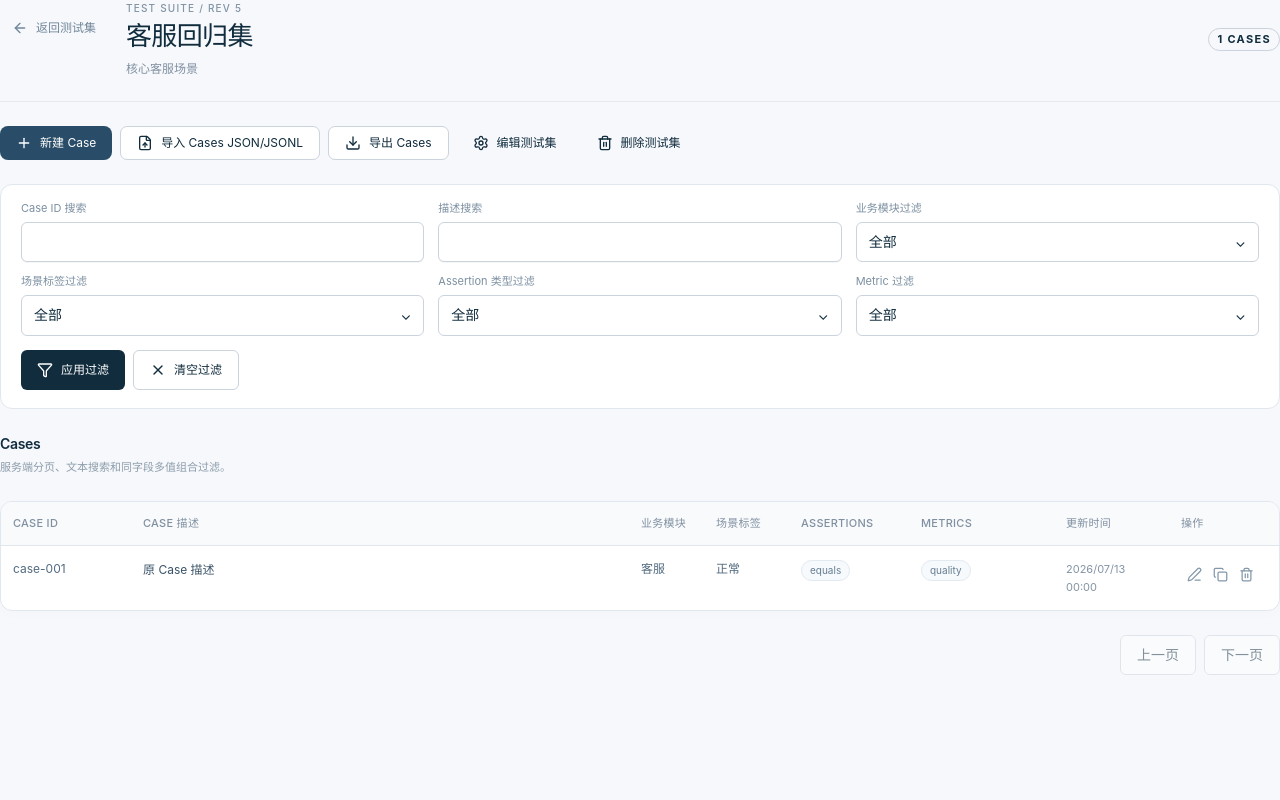
Test: 测试集详情页 Case 资源写操作 › Case 复制和删除的非 Revision 失败在当前模态框内可访问
What coordinates should you click on to do the following:
click the button named "复制 case-001"
I would click on:
 (1220, 574)
Its box is [1207, 560, 1233, 588].
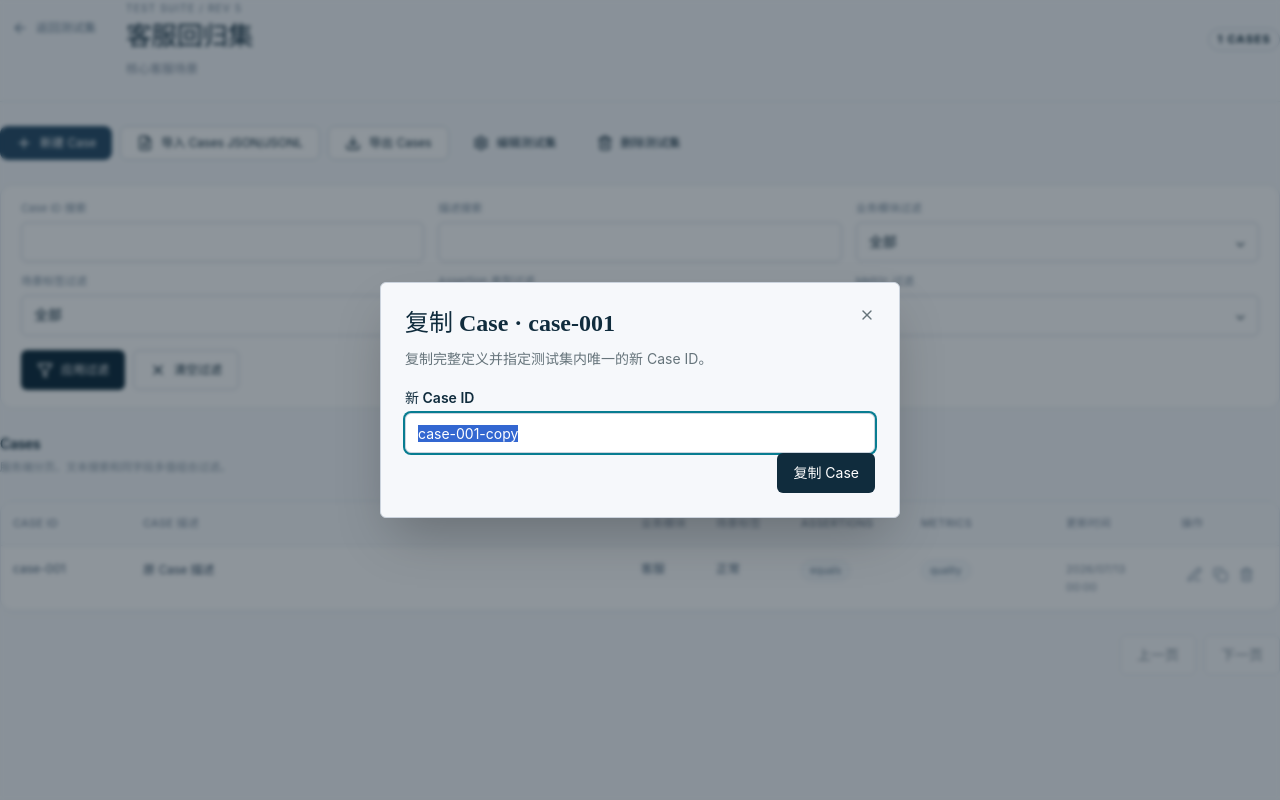
What coordinates should you click on to do the following:
click the button "复制 Case"
I would click on:
 (826, 473)
Its box is [777, 453, 875, 493].
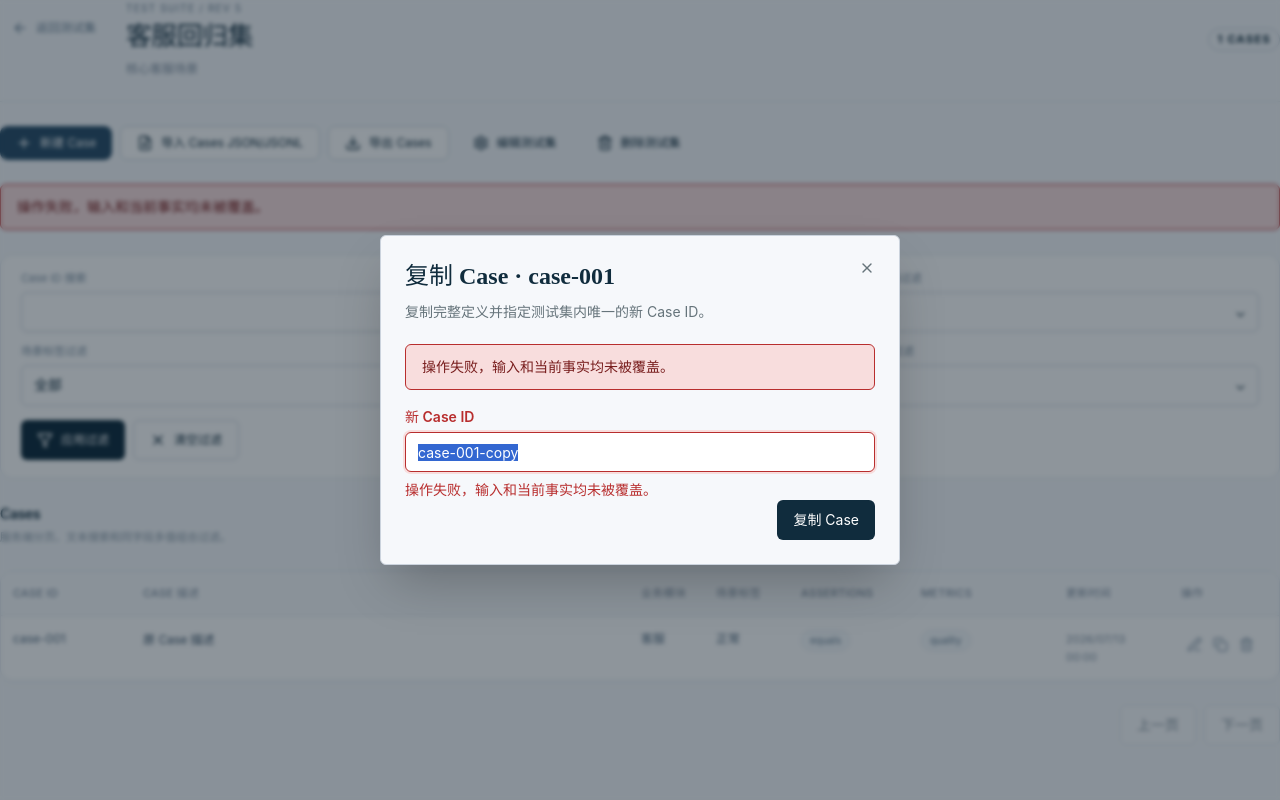
Expected: the 1st text "操作失败，输入和当前事实均未被覆盖。" is shown, [422, 358, 674, 375]
What coordinates should you click on to do the following:
click the button named "关闭"
I would click on:
 (867, 268)
Its box is [851, 252, 883, 284].
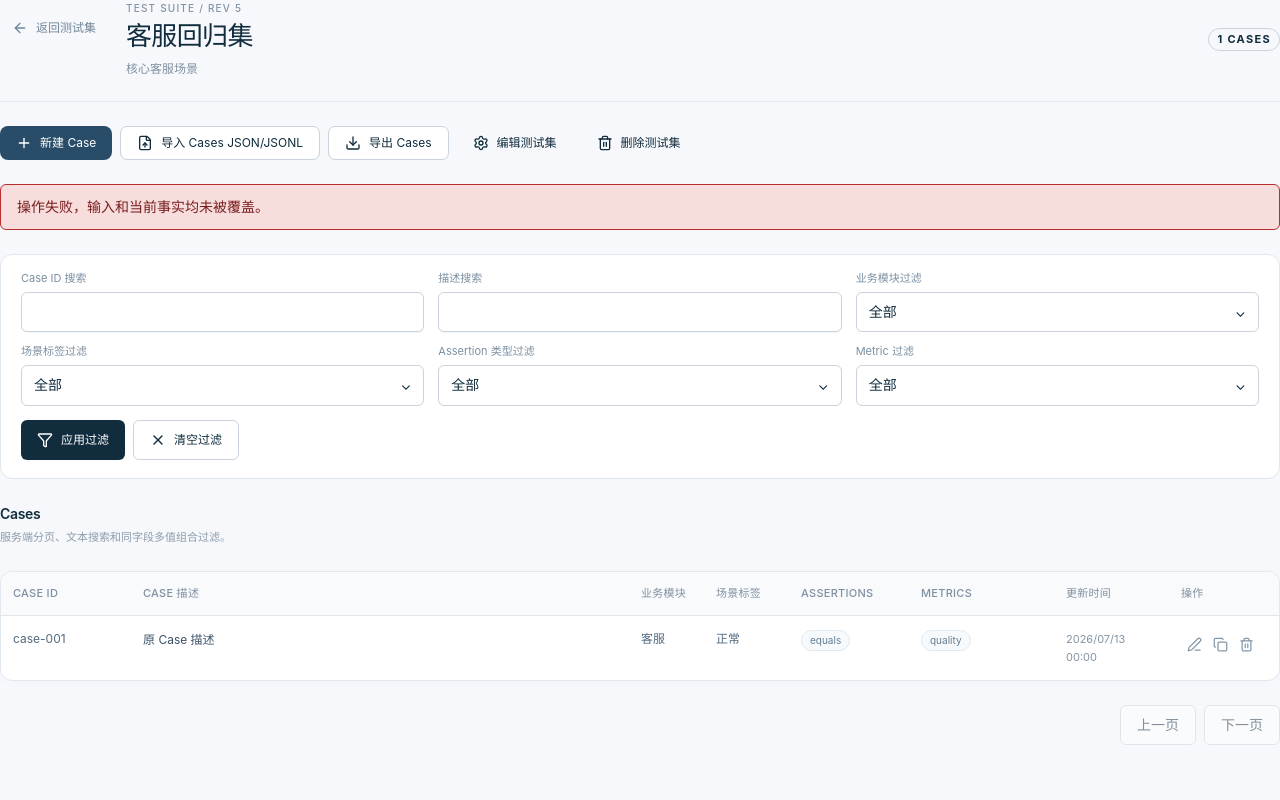
What coordinates should you click on to do the following:
click the button named "删除 case-001"
I would click on:
 (1246, 644)
Its box is [1233, 630, 1259, 658].
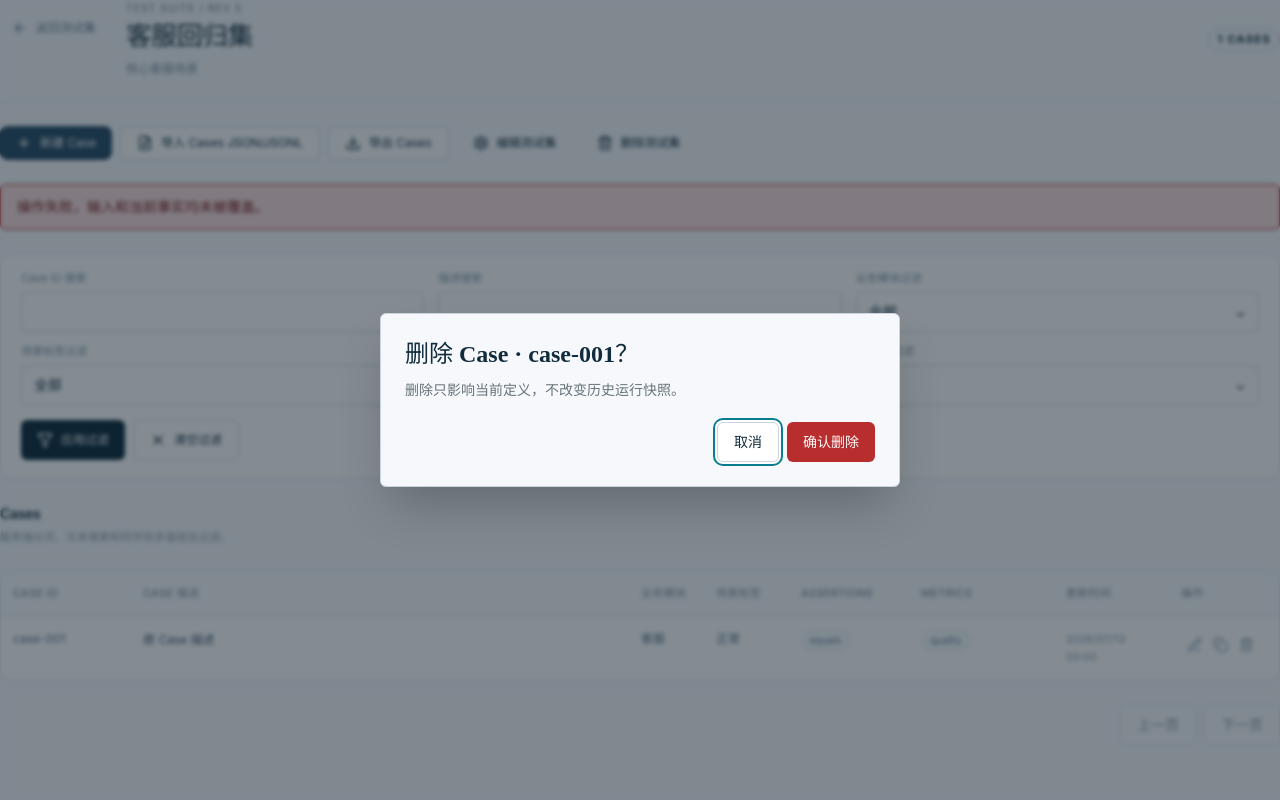
What coordinates should you click on to do the following:
click the button "确认删除"
I would click on:
 (831, 442)
Its box is [787, 422, 875, 462].
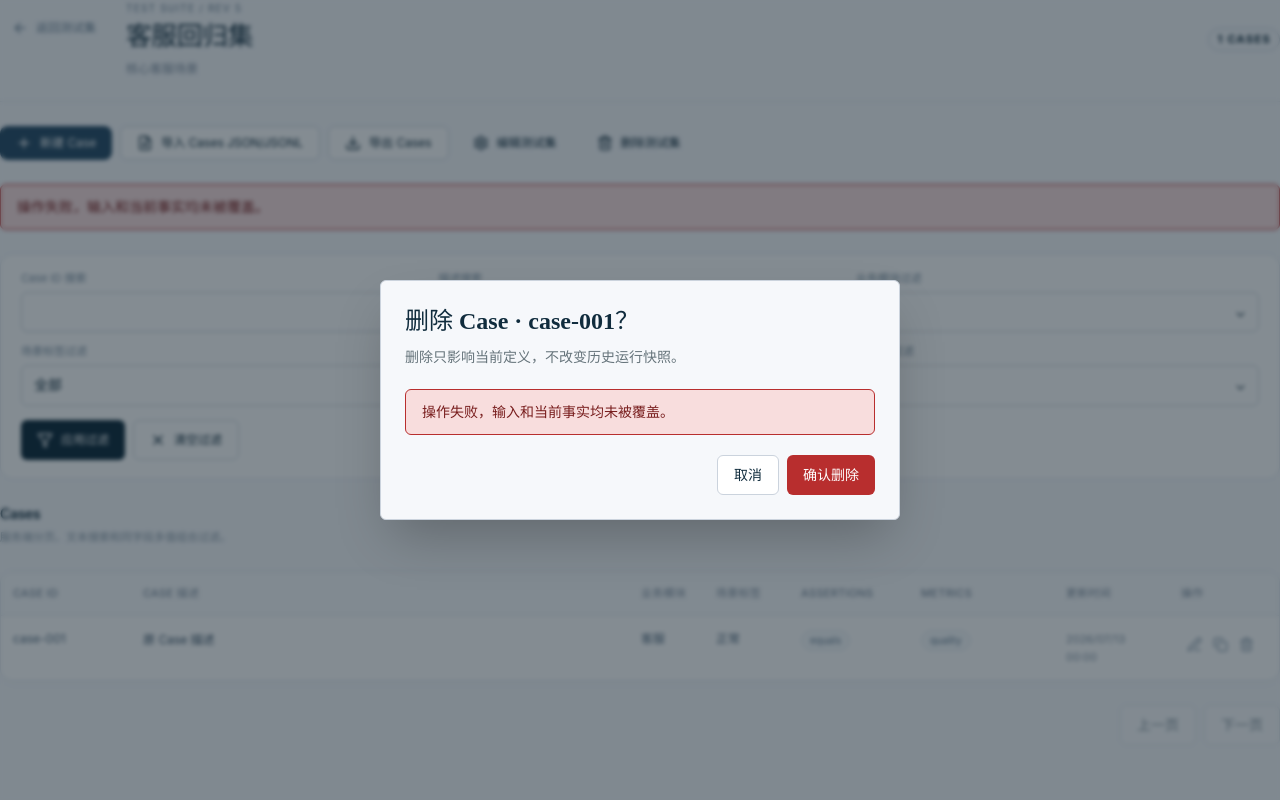
Expected: the text "操作失败，输入和当前事实均未被覆盖。" is shown, [422, 403, 674, 420]
